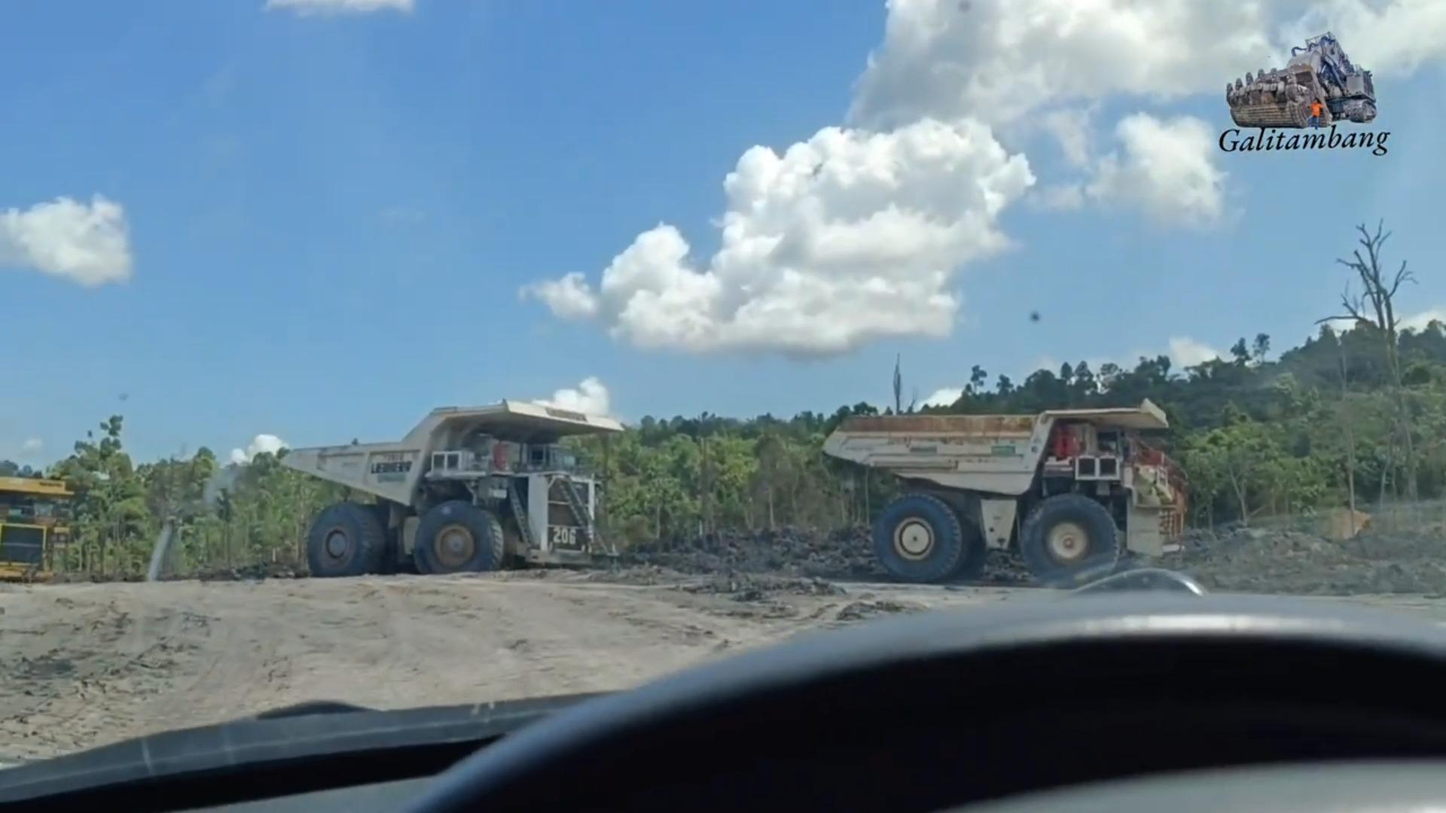HD-Truck: (823, 399, 1185, 582), (282, 400, 623, 577)
